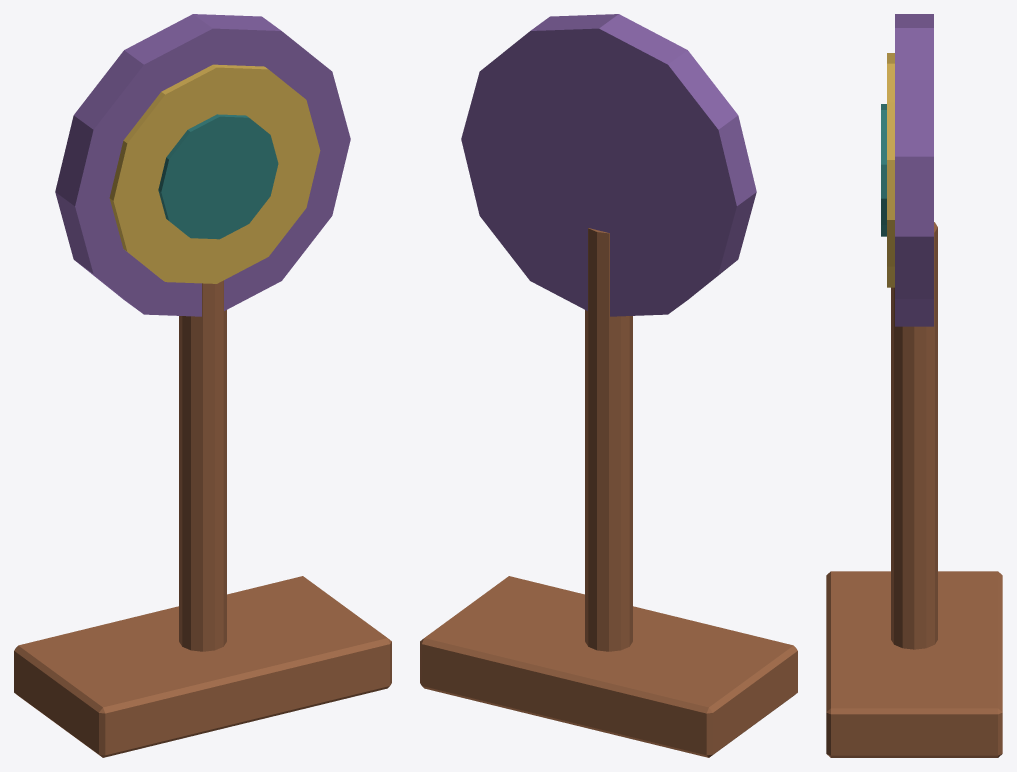
File: target.glb
3 views of the same model, side by side, from view 1: azimuth 30°, elevation 25°; view 2: azimuth 150°, elevation 25°; view 3: azimuth 270°, elevation 25° (orthographic).
Parts seen in each view (by area): view 1: Target0, Base; view 2: Target0, Base; view 3: Base, Target0.
Boxes of the visible parts, x1,y1,x2,y2 form: Target0: (55,14,350,316); Base: (14,280,391,757); Target0: (461,14,756,316); Base: (420,228,797,757); Base: (826,222,1002,757); Target0: (881,14,933,326).
Bounding box in the file's own units: 0.85 × 1.86 × 0.45.
